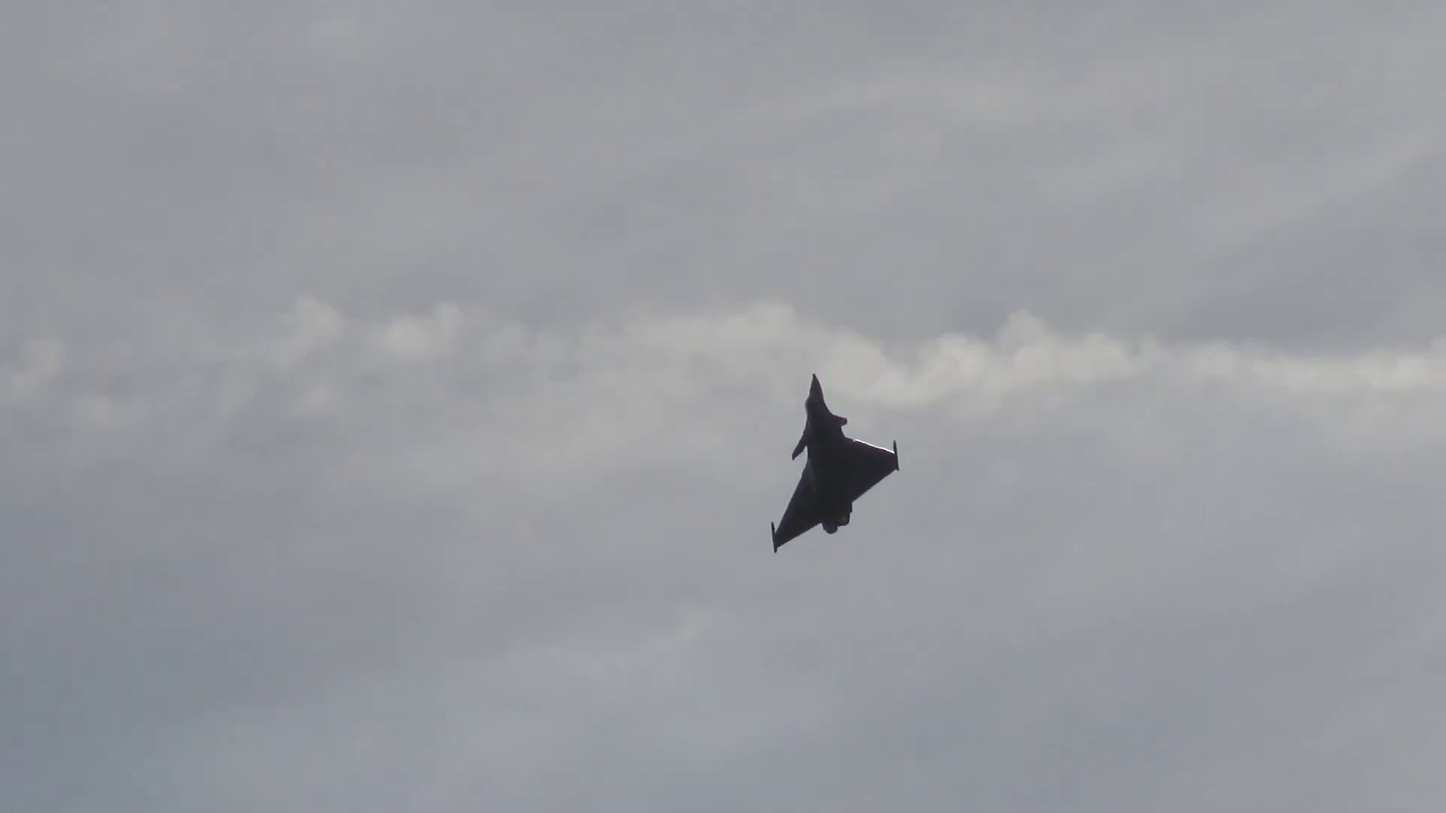Rafale: (767, 367, 904, 554)
